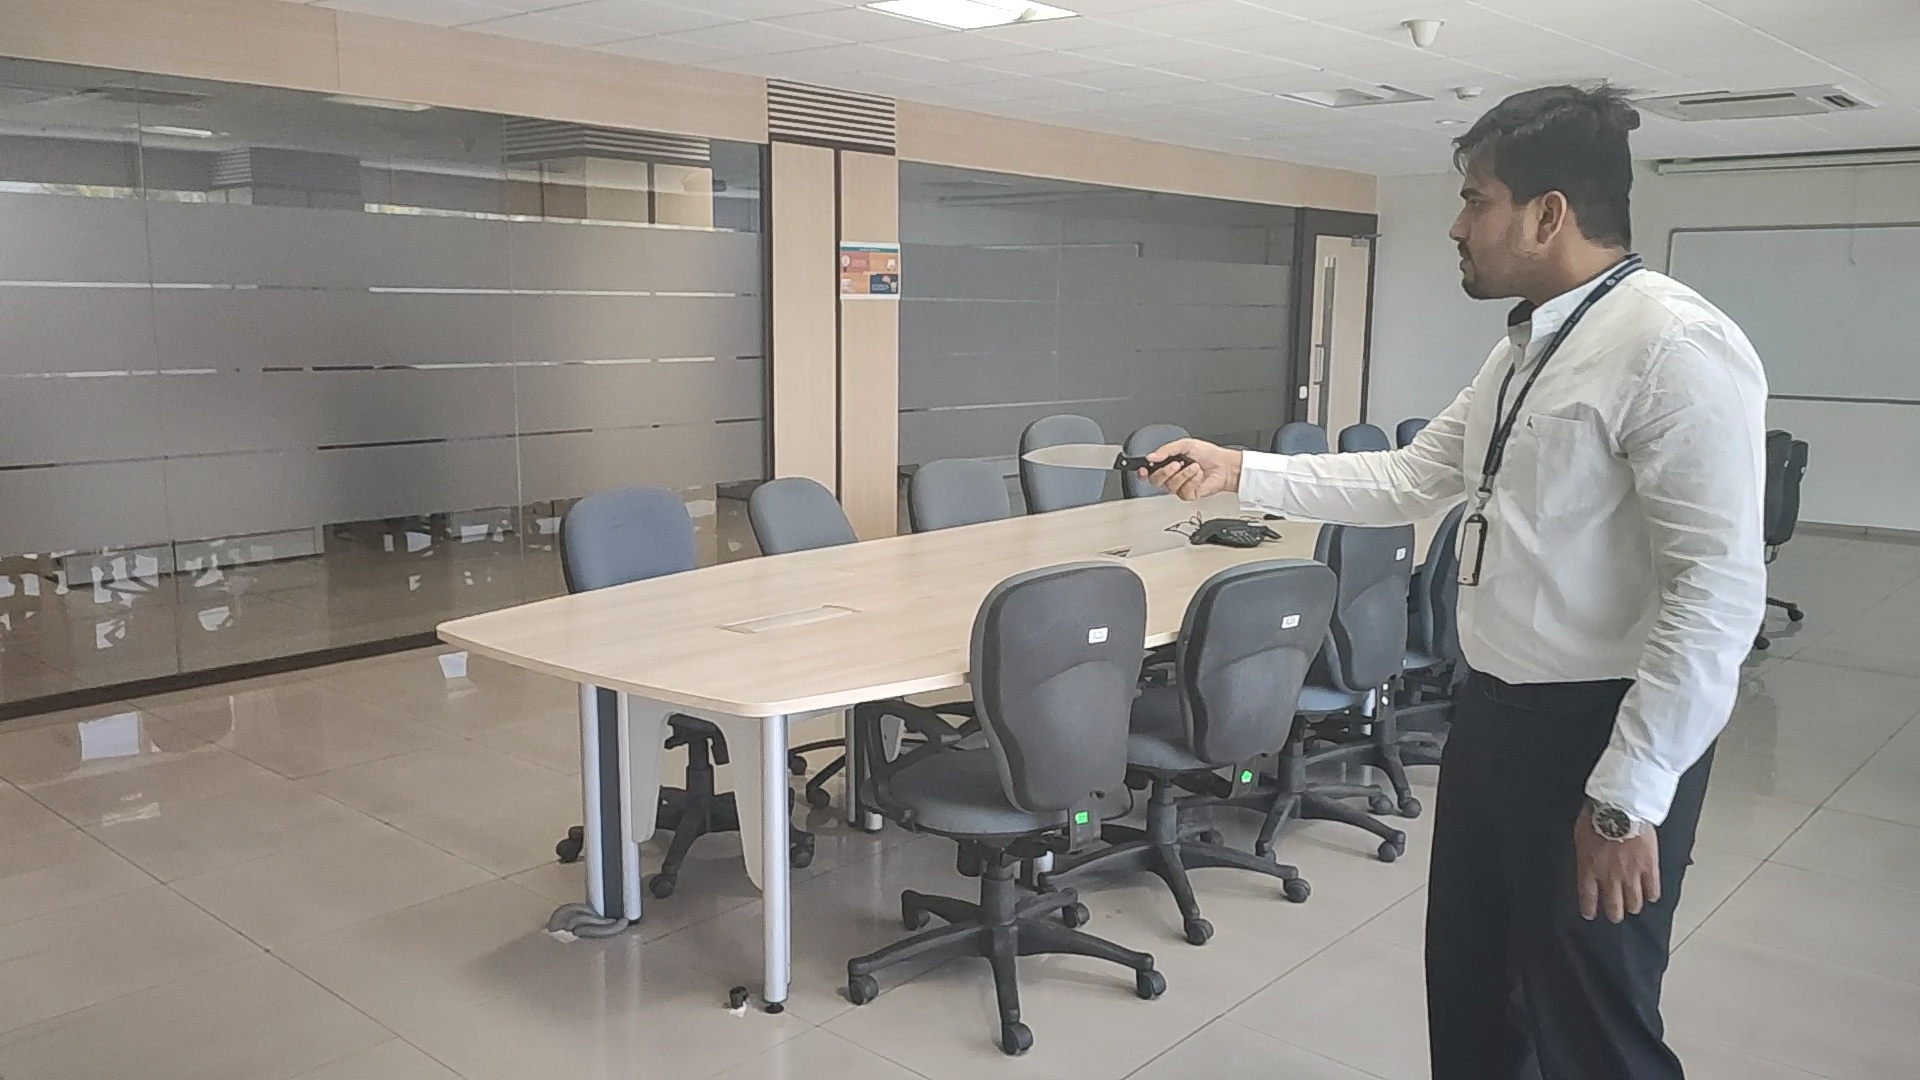knife: (1022, 436, 1164, 477)
